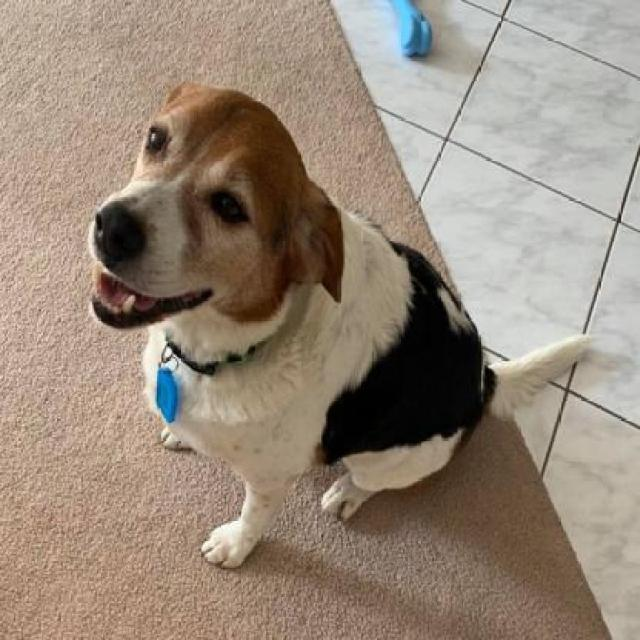Dog: (88, 82, 606, 570)
